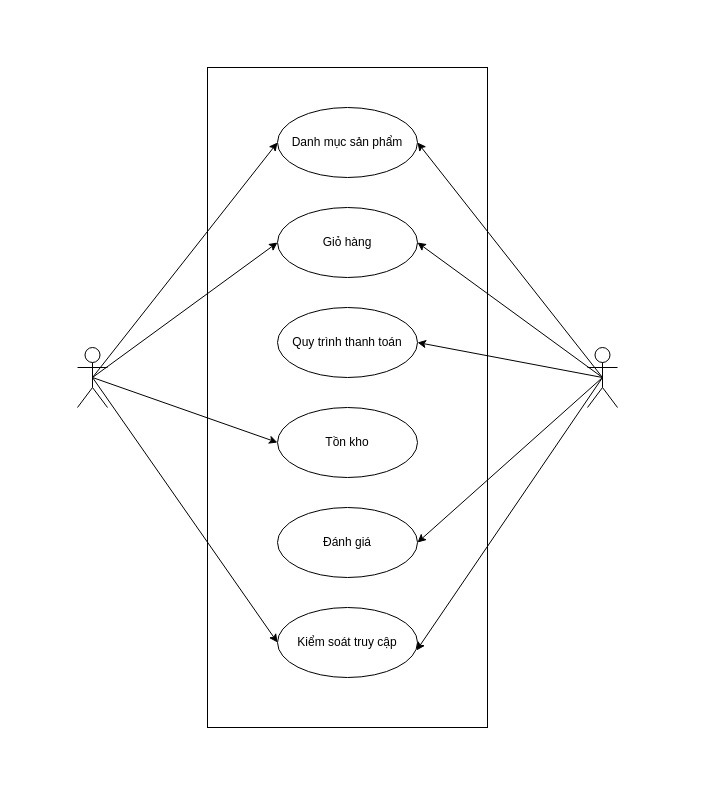
Some shapes in this 714 by 804 pixel diagram are drawn without their labels. Here are the shapes that lost their labels. From the top down, the box of each, then its label:
(76, 346, 108, 408): Quản trị viên
(586, 346, 618, 408): Người dùng
